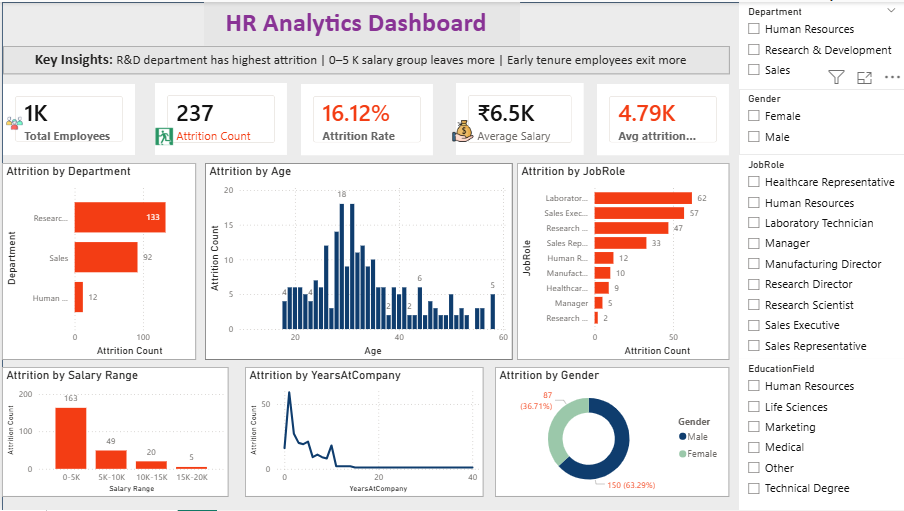

The dashboard page shown, as its layout file describes it:
{"tool":"powerbi","page":{"name":"Page 1","canvas":[1280,720],"ordinal":0},"visuals":[{"type":"shape","box":[0,0,1280.2,721.4],"z":0},{"type":"cardVisual","fields":{"Data":["WA_Fn-UseC_-HR-Employee-Attrition.Attrition Count"]},"box":[217.4,115.2,187.2,102.2],"z":0,"group":"g2"},{"type":"cardVisual","fields":{"Data":["WA_Fn-UseC_-HR-Employee-Attrition.Average Salary"]},"box":[643.6,115.2,181.3,102.2],"z":0,"group":"g3"},{"type":"cardVisual","fields":{"Data":["WA_Fn-UseC_-HR-Employee-Attrition.Total Employees"]},"box":[1.4,116.6,187,99.9],"z":0,"group":"g1"},{"type":"textbox","box":[286.6,0,447.8,61.9],"z":1000},{"type":"image","box":[5.1,159,24.3,25.4],"z":1000,"group":"g1"},{"type":"image","box":[637.9,167.2,31.2,30.8],"z":1000,"group":"g3"},{"type":"image","box":[217.8,171.2,25.6,37.5],"z":1000,"group":"g2"},{"type":"cardVisual","fields":{"Data":["WA_Fn-UseC_-HR-Employee-Attrition.Attrition Rate"]},"box":[423.4,116.6,187.2,100.8],"z":2000},{"type":"cardVisual","fields":{"Data":["HR-Employee-Attrition.Average attrition Salary"]},"box":[843.8,116.6,187.2,100.8],"z":3000},{"type":"slicer","fields":{"Values":["HR-Attrition.Department"]},"box":[1044.8,0,235.2,123.6],"z":4000},{"type":"slicer","fields":{"Values":["HR-Attrition.Gender"]},"box":[1044.8,123.6,235.2,93.5],"z":5000},{"type":"slicer","fields":{"Values":["HR-Attrition.JobRole"]},"box":[1044.8,217.1,235.2,289.5],"z":6000},{"type":"slicer","fields":{"Values":["HR-Attrition.EducationField"]},"box":[1044.8,506.6,235.2,214.1],"z":7000},{"type":"clusteredColumnChart","title":"Attrition by Age","fields":{"Y":["HR-Attrition.Attrition Count"],"Category":["HR-Attrition.Age"]},"box":[288,227.5,436.3,279.4],"z":8000},{"type":"clusteredColumnChart","title":"Attrition by Salary Range","fields":{"Y":["HR-Attrition.Attrition Count"],"Category":["HR-Attrition.Salary Range"]},"box":[0,517,321.1,184.3],"z":9000},{"type":"lineChart","title":"Attrition by YearsAtCompany","fields":{"Category":["HR-Attrition.YearsAtCompany"],"Y":["HR-Attrition.Attrition Count"]},"box":[344.2,517,338.4,184.3],"z":10000},{"type":"donutChart","title":"Attrition by Gender","fields":{"Category":["HR-Attrition.Gender"],"Y":["HR-Attrition.Attrition Count"]},"box":[698.7,517.3,331.7,184.3],"z":11000},{"type":"group","id":"g1","title":"Group 1","box":[1.4,116.6,187.2,100.8],"z":12000},{"type":"group","id":"g2","title":"Group 2","box":[217.4,115.2,187.2,102.2],"z":13000},{"type":"group","id":"g3","title":"Group 3","box":[637.9,115.2,187.2,102.2],"z":14000},{"type":"textbox","box":[1.4,61.9,1029.6,40.3],"z":15000},{"type":"clusteredBarChart","title":"Attrition by JobRole","fields":{"Y":["HR-Attrition.Attrition Count"],"Category":["HR-Attrition.JobRole"]},"box":[730.1,227.5,301,279.4],"z":16000},{"type":"clusteredBarChart","title":"Attrition by Department","fields":{"Category":["HR-Attrition.Department"],"Y":["HR-Attrition.Attrition Count"]},"box":[0,227.5,275,279.4],"z":17000}]}

Visuals, with their boxes on the page's 1280x720 design canvas (x1, y1, x2, y2). These are canvas units, not pixel positions in the 904x511 screenshot, which may show the page scaled, cropped or inside an application window:
shape: Rect(0, 0, 1280, 721)
cardVisual - WA_Fn-UseC_-HR-Employee-Attrition.Attrition Count: Rect(217, 115, 405, 217)
cardVisual - WA_Fn-UseC_-HR-Employee-Attrition.Average Salary: Rect(644, 115, 825, 217)
cardVisual - WA_Fn-UseC_-HR-Employee-Attrition.Total Employees: Rect(1, 117, 188, 216)
textbox: Rect(287, 0, 734, 62)
image: Rect(5, 159, 29, 184)
image: Rect(638, 167, 669, 198)
image: Rect(218, 171, 243, 209)
cardVisual - WA_Fn-UseC_-HR-Employee-Attrition.Attrition Rate: Rect(423, 117, 611, 217)
cardVisual - HR-Employee-Attrition.Average attrition Salary: Rect(844, 117, 1031, 217)
slicer - HR-Attrition.Department: Rect(1045, 0, 1280, 124)
slicer - HR-Attrition.Gender: Rect(1045, 124, 1280, 217)
slicer - HR-Attrition.JobRole: Rect(1045, 217, 1280, 507)
slicer - HR-Attrition.EducationField: Rect(1045, 507, 1280, 721)
"Attrition by Age" clusteredColumnChart: Rect(288, 228, 724, 507)
"Attrition by Salary Range" clusteredColumnChart: Rect(0, 517, 321, 701)
"Attrition by YearsAtCompany" lineChart: Rect(344, 517, 683, 701)
"Attrition by Gender" donutChart: Rect(699, 517, 1030, 702)
"Group 1" group: Rect(1, 117, 189, 217)
"Group 2" group: Rect(217, 115, 405, 217)
"Group 3" group: Rect(638, 115, 825, 217)
textbox: Rect(1, 62, 1031, 102)
"Attrition by JobRole" clusteredBarChart: Rect(730, 228, 1031, 507)
"Attrition by Department" clusteredBarChart: Rect(0, 228, 275, 507)
